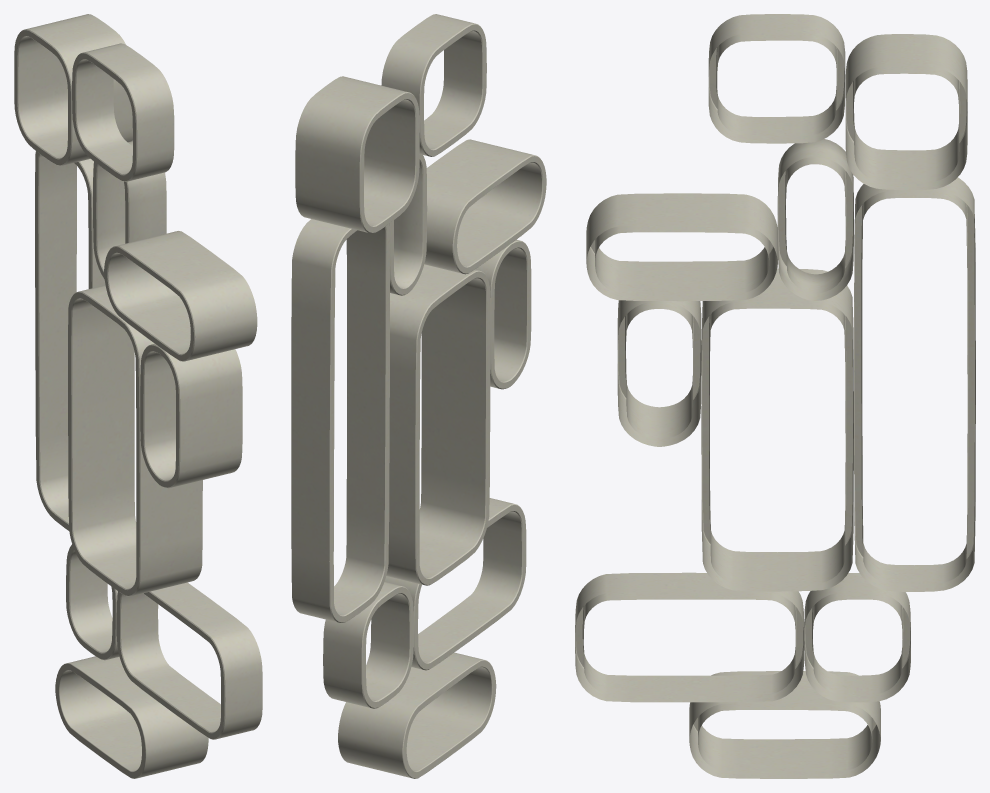
File: nt_2020_wall_shelves_01_LOD0.obj
The picture shows the model from 3 angles, left to right: view 1: azimuth 30°, elevation 25°; view 2: azimuth 150°, elevation 25°; view 3: azimuth 270°, elevation 25°; orthographic projection. The views are drawn at different scales.
Parts seen in each view (by area): view 1: nt_2020_plastic_cream; view 2: nt_2020_plastic_cream; view 3: nt_2020_plastic_cream.
Boxes of the visible parts, x1=… form: nt_2020_plastic_cream: x1=14, y1=14, x2=262, y2=778; nt_2020_plastic_cream: x1=291, y1=14, x2=546, y2=778; nt_2020_plastic_cream: x1=575, y1=14, x2=975, y2=778.
Bounding box in the file's own units: 51.45 × 539 × 267.
